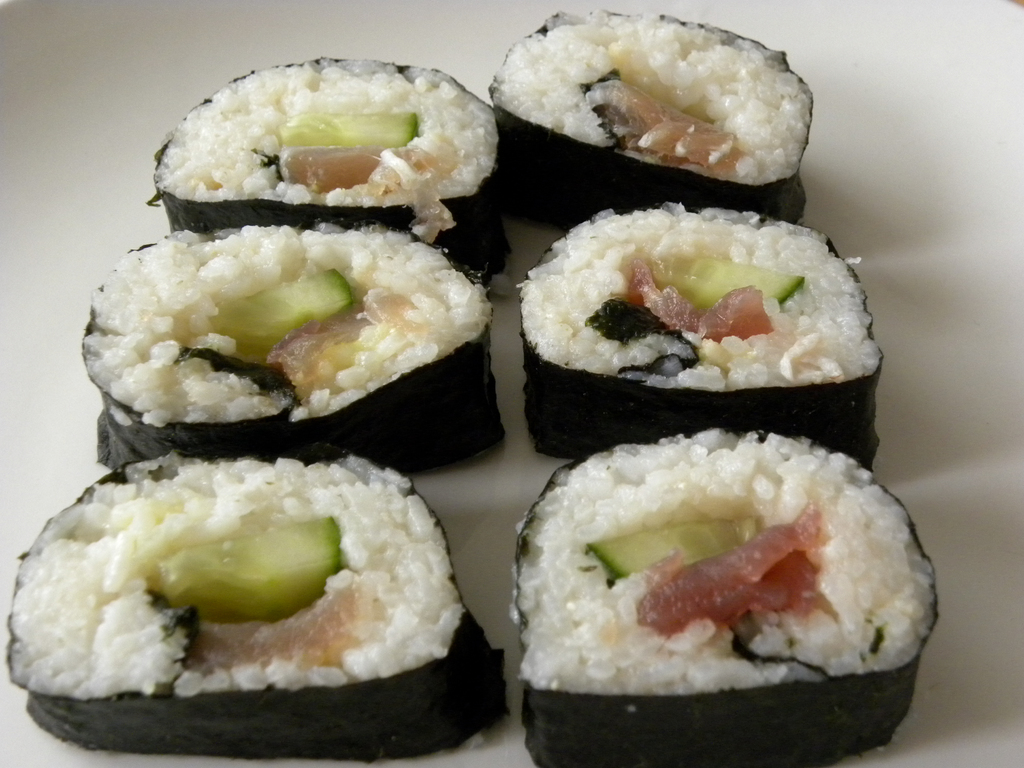sushi: (10, 6, 934, 767), (524, 430, 935, 760)
